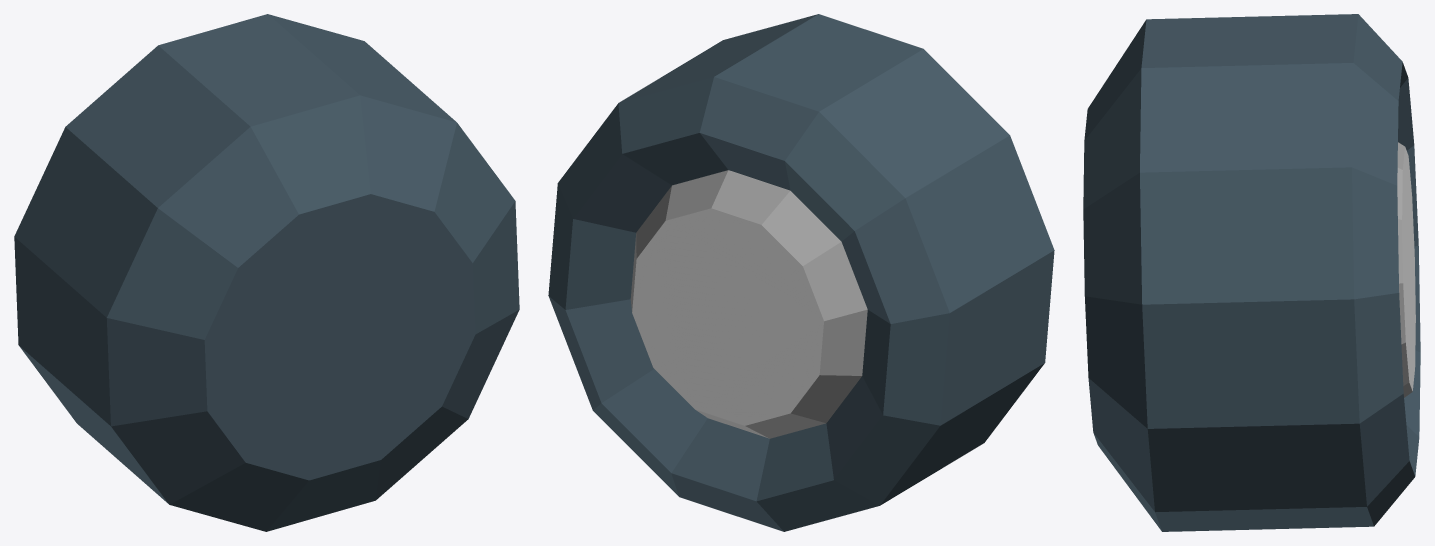
File: golftire.glb
3 renders of one model, left to right at view 1: azimuth 30°, elevation 25°; view 2: azimuth 150°, elevation 25°; view 3: azimuth 270°, elevation 25°, orthographic. The views are drawn at different scales.
Parts seen in each view (by area): view 1: Golftire; view 2: Golftire; view 3: Golftire.
Part boxes in pixels (x1,y1,x2,y2): Golftire: (14,14,519,531); Golftire: (548,14,1054,531); Golftire: (1083,14,1420,531).
Size of the model in its own units: 0.4242 by 0.4255 by 0.2789.
